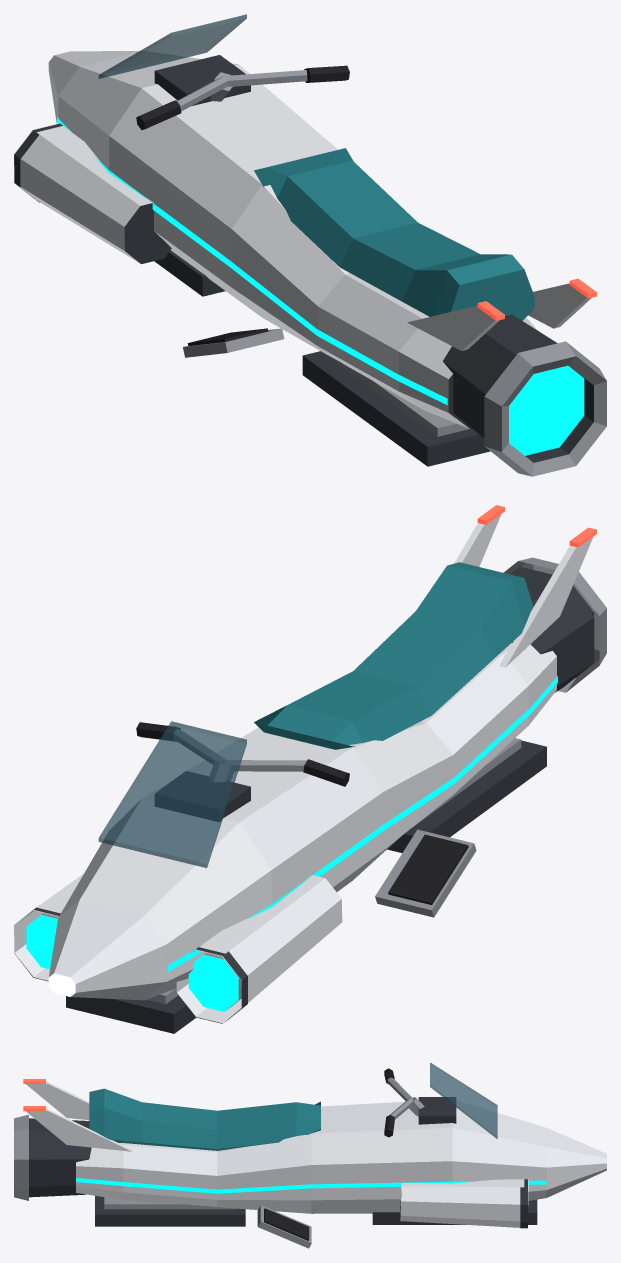
File: hover_bike.glb
The picture shows the model from 3 angles, top to bottom: view 1: azimuth 30°, elevation 25°; view 2: azimuth 150°, elevation 25°; view 3: azimuth 270°, elevation 25°; orthographic projection. The views are drawn at different scales.
Parts seen in each view (by area): view 1: hover_bike_body; view 2: hover_bike_body; view 3: hover_bike_body.
Part boxes in pixels (x1,y1,x2,y2): hover_bike_body: [14, 14, 606, 476]; hover_bike_body: [14, 505, 606, 1033]; hover_bike_body: [14, 1062, 606, 1248].
Size of the model in its own units: 0.92 by 0.8135 by 3.15.
